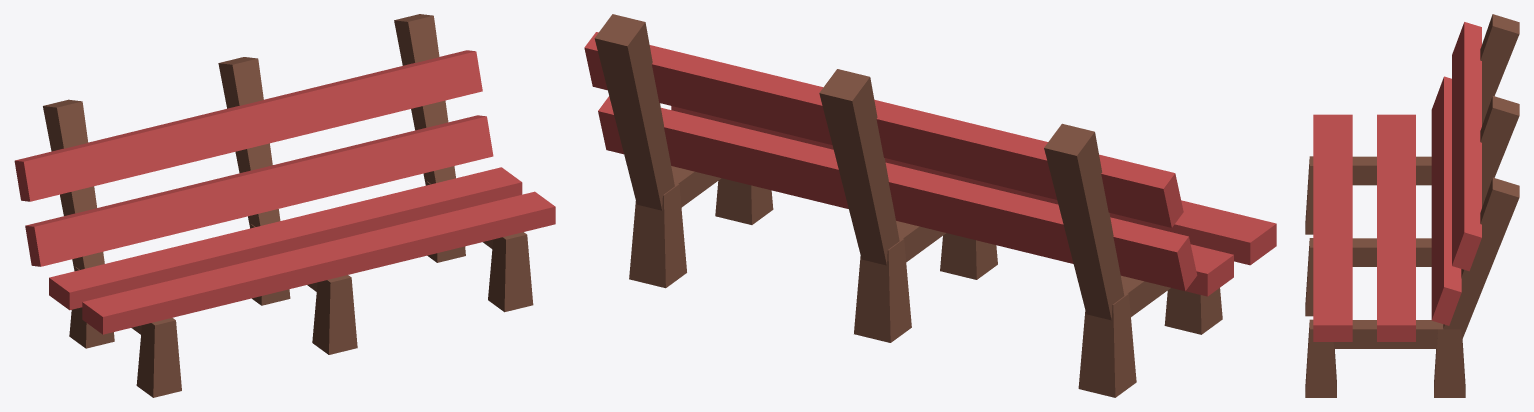
Rendered from Bench 2.fbx.
The picture shows the model from 3 angles, left to right: view 1: azimuth 30°, elevation 25°; view 2: azimuth 150°, elevation 25°; view 3: azimuth 270°, elevation 25°; orthographic projection. The views are drawn at different scales.
Visible parts, largest first — view 1: Bench 2; view 2: Bench 2; view 3: Bench 2.
Boxes of the visible parts, box(x1,y1,x2,y2) form: Bench 2: box(14, 14, 555, 397); Bench 2: box(584, 14, 1276, 397); Bench 2: box(1305, 14, 1519, 397).
Bounding box in the file's own units: 423 × 195 × 182.
